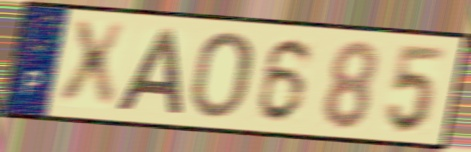5: (384, 41, 449, 136)
6: (256, 35, 316, 124)
8: (319, 37, 381, 132)
A: (112, 25, 184, 115)
O: (188, 29, 257, 121)
X: (56, 19, 130, 111)
